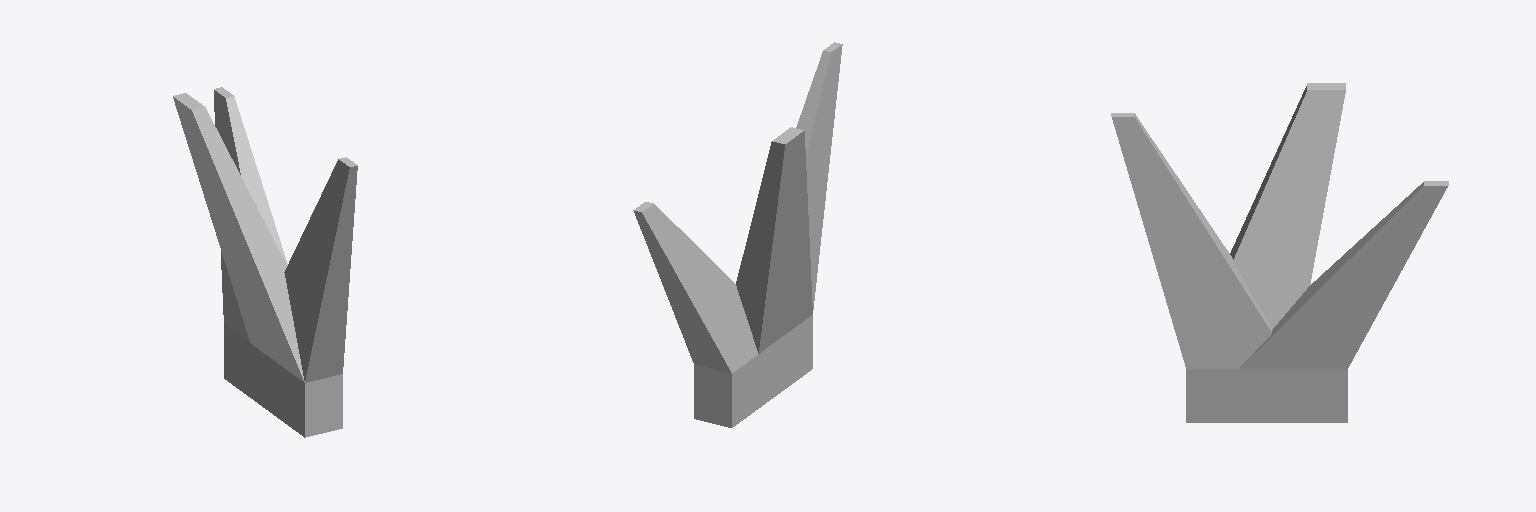
The model's file is trava.obj.
The picture shows the model from 3 angles: view 1: azimuth 30°, elevation 25°; view 2: azimuth 150°, elevation 25°; view 3: azimuth 270°, elevation 25°; orthographic projection.
Visible parts, largest first — view 1: Cube.002_Cube.003; view 2: Cube.002_Cube.003; view 3: Cube.002_Cube.003.
Part boxes in pixels (x1,y1,x2,y2): Cube.002_Cube.003: (173,87,357,437); Cube.002_Cube.003: (633,42,842,427); Cube.002_Cube.003: (1111,83,1448,422).
Size of the model in its own units: 2.14 by 6 by 6.2.